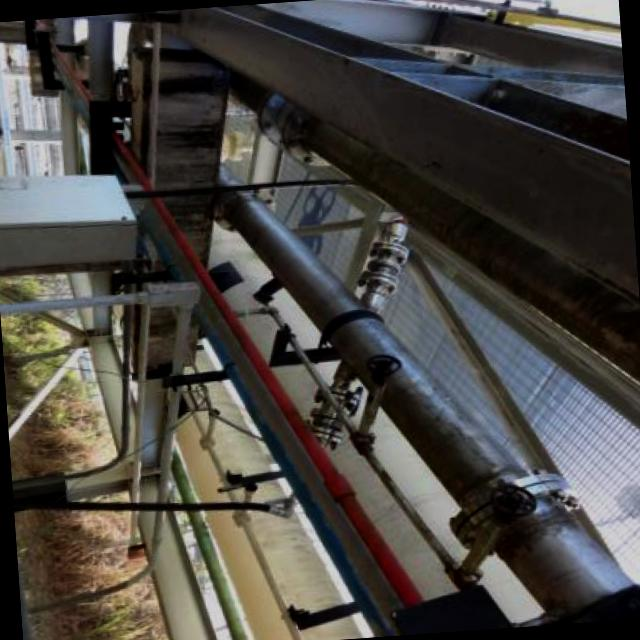gas: (206, 172, 636, 622), (107, 124, 421, 610), (131, 204, 393, 637), (168, 458, 251, 640)
